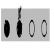correct: (3, 18, 11, 40)
no answer: (28, 18, 35, 40)
not correct: (16, 5, 23, 39)
